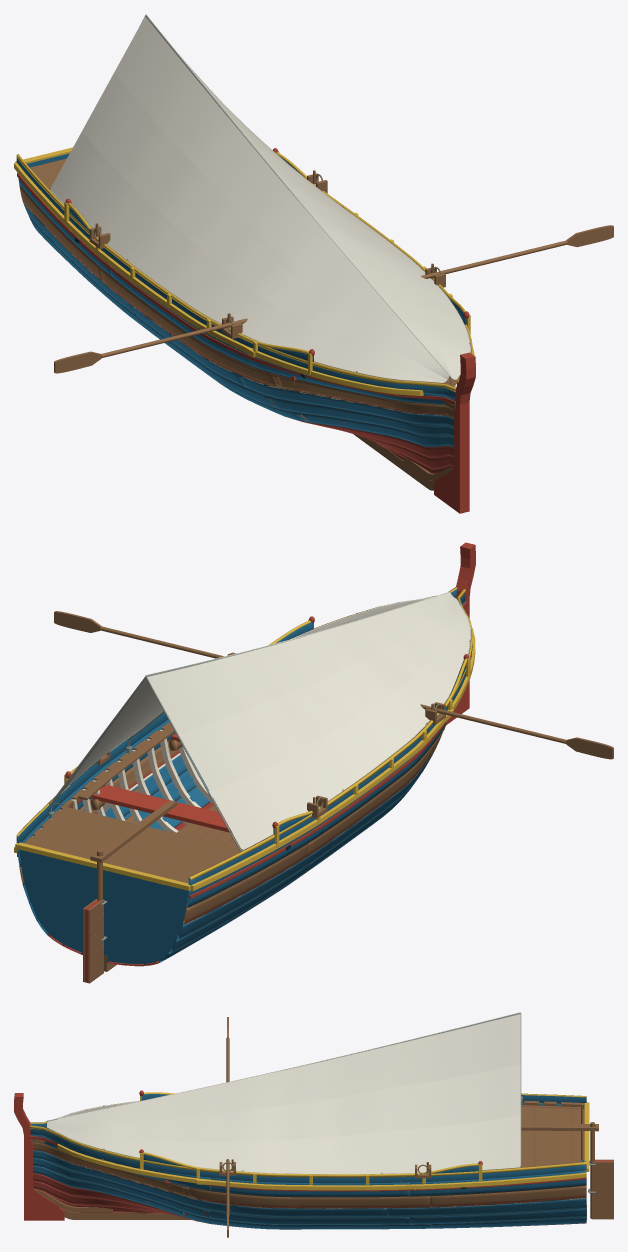
File: kajjik-mobile.glb
3 views of the same model, one above another, from view 1: azimuth 30°, elevation 25°; view 2: azimuth 150°, elevation 25°; view 3: azimuth 270°, elevation 25° (orthographic). The views are drawn at different scales.
Parts seen in each view (by area): view 1: canopy-cover-506, canopy-cover-505, canopy-cover-504, canopy-cover-507, canopy-cover-508, bow-post-5, canopy-cover-509, washboards-77, planking-60, planking-55, planking-41, planking-61 (+18 smaller); view 2: canopy-cover-504, canopy-cover-505, canopy-cover-506, transom-6, thwarts-354, planking-59, planking-60, planking-53, canopy-cover-508, washboards-179, sheer-strake-73, washboards-77 (+29 smaller); view 3: canopy-cover-507, canopy-cover-508, canopy-cover-509, washboards-179, planking-162, planking-155, bow-post-5, planking-161, sheer-strake-176, planking-142, sheer-strake-175, planking-141 (+39 smaller).
Part boxes in pixels (x1,y1,x2,y2): canopy-cover-506: (114, 16, 448, 379); canopy-cover-505: (82, 73, 447, 381); canopy-cover-504: (50, 131, 444, 382); canopy-cover-507: (179, 54, 452, 378); canopy-cover-508: (227, 107, 456, 379); bow-post-5: (434, 352, 475, 513); canopy-cover-509: (291, 166, 470, 379); washboards-77: (16, 158, 455, 398); planking-60: (99, 267, 276, 386); planking-55: (238, 374, 453, 427); planking-41: (263, 395, 453, 437); planking-61: (271, 373, 453, 417); canopy-cover-504: (210, 598, 470, 849); canopy-cover-505: (178, 596, 456, 791); canopy-cover-506: (147, 592, 452, 733); transom-6: (19, 849, 188, 965); thwarts-354: (92, 784, 232, 833); planking-59: (183, 843, 308, 923); planking-60: (305, 724, 445, 857); planking-53: (177, 839, 333, 938); canopy-cover-508: (82, 600, 421, 760); washboards-179: (16, 589, 457, 843); sheer-strake-73: (186, 820, 325, 906); washboards-77: (188, 593, 472, 885); canopy-cover-507: (47, 1014, 520, 1124); canopy-cover-508: (47, 1064, 520, 1142); canopy-cover-509: (47, 1115, 520, 1173); washboards-179: (30, 1128, 586, 1183); planking-162: (189, 1187, 430, 1207); planking-155: (387, 1198, 586, 1216); bow-post-5: (14, 1093, 64, 1220); planking-161: (430, 1185, 586, 1206); sheer-strake-176: (210, 1178, 409, 1196); planking-142: (210, 1211, 409, 1224); sheer-strake-175: (409, 1170, 586, 1195); planking-141: (409, 1208, 586, 1224).
Size of the model in its own units: 5.07 by 2.3 by 6.05.
